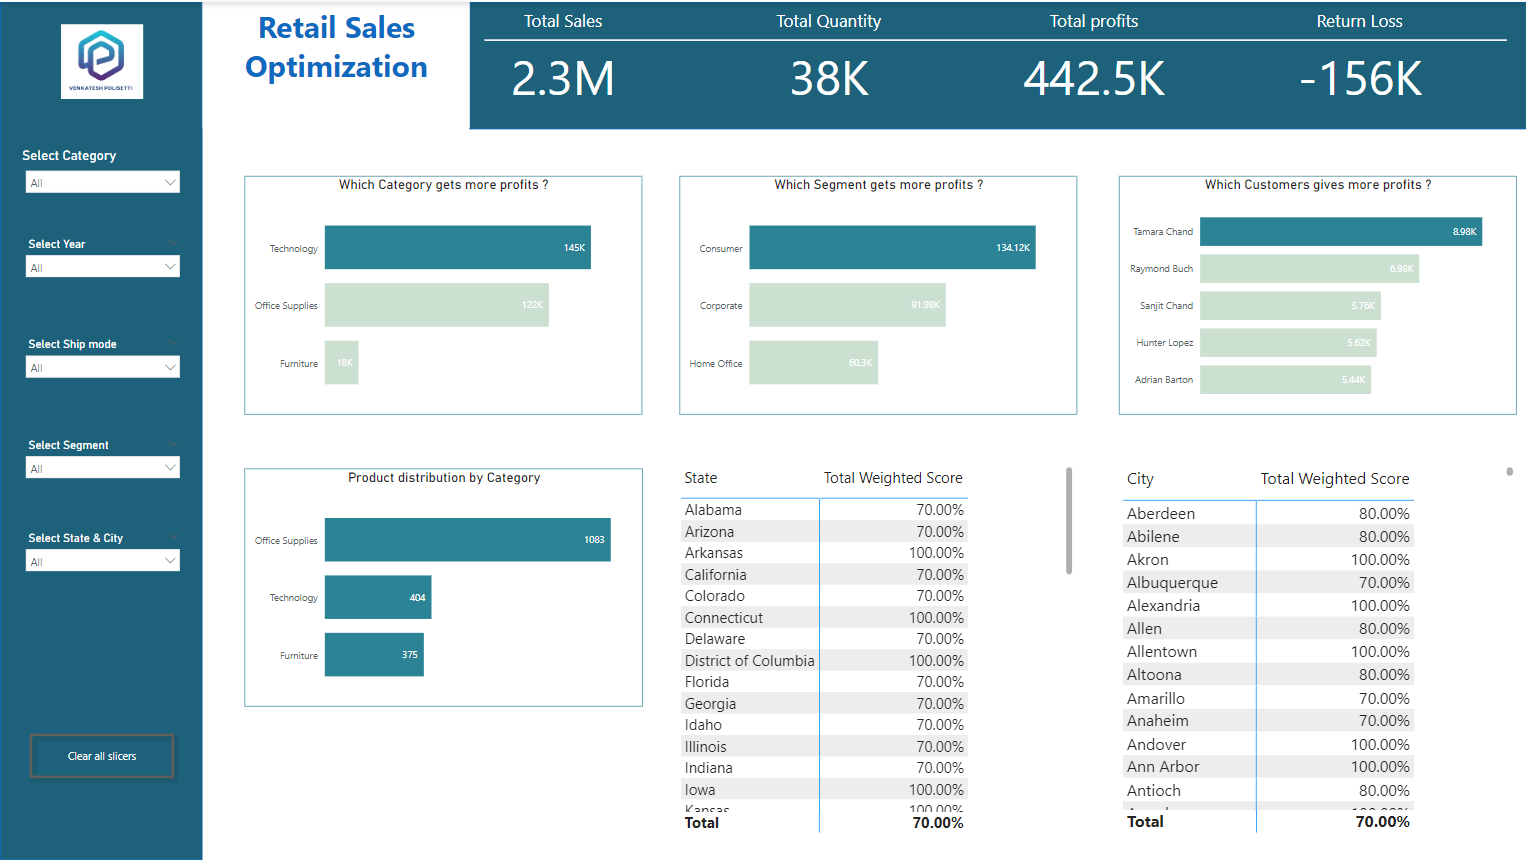

The page's visual inventory and layout, read from the dashboard file:
{"tool":"powerbi","page":{"name":"Efficiency and Profitability","canvas":[1920,1080],"ordinal":1},"visuals":[{"type":"shape","box":[0,0,254.4,1078.9],"z":0},{"type":"shape","box":[590.4,0,1331.2,159.9],"z":1000},{"type":"card","title":"Total Sales ","fields":{"Values":["Dax measures.Total sales"]},"box":[608.7,6.8,197.6,136.3],"z":2000},{"type":"card","title":"Total Quantity","fields":{"Values":["Dax measures.Total quantity"]},"box":[942.6,6.8,197.6,136.3],"z":3000},{"type":"card","title":"Total profits ","fields":{"Values":["Dax measures.Total Profit"]},"box":[1276.5,6.8,197.6,136.3],"z":4000},{"type":"card","title":"Return Loss","fields":{"Values":["Dax measures.Total Loss"]},"box":[1610.4,6.8,197.6,136.3],"z":5000},{"type":"shape","box":[608.7,38.6,1285.6,20.4],"z":6000},{"type":"barChart","title":"Which  Category gets more profits ?","fields":{"Y":["Fact_Orders.Profit"],"Category":["Dim_Products.Category"]},"box":[308.1,218.7,500,300],"z":13000},{"type":"textbox","box":[254.4,0,336.2,159],"z":15000},{"type":"slicer","title":"Select Category","fields":{"Values":["Dim_Products.Category"]},"box":[21.9,183.6,213.5,69.8],"z":16000},{"type":"slicer","fields":{"Values":["Calendar Table.Year","Calendar Table.Month Name"]},"box":[22.7,290.2,213.5,77.2],"z":17000},{"type":"slicer","fields":{"Values":["Ship Mode Sort.Ship mode"]},"box":[22.7,416.8,213.5,77.2],"z":18000},{"type":"slicer","fields":{"Values":["dim_customers.Segment"]},"box":[22.7,543.4,213.5,68.1],"z":19000},{"type":"slicer","fields":{"Values":["Dim_Locations.State","Dim_Locations.City"]},"box":[21.9,660.4,213.5,75.8],"z":20000},{"type":"image","box":[65.9,22.7,124.9,104.5],"z":22000},{"type":"actionButton","box":[27.9,911.8,199.5,73.8],"z":24000},{"type":"barChart","title":"Which  Segment gets more profits ?","fields":{"Y":["Fact_Orders.Profit"],"Category":["dim_customers.Segment"]},"box":[853.8,218.7,500,300],"z":24005},{"type":"barChart","title":"Which  Customers  gives more profits ?","fields":{"Y":["Fact_Orders.Profit"],"Category":["dim_customers.Customer Name"]},"box":[1406.5,218.7,500,300],"z":24006},{"type":"barChart","title":"Product distribution  by Category","fields":{"Category":["Dim_Products.Category"],"Y":["Dax measures.Total Products"]},"box":[307.3,586.6,500.8,299.3],"z":24007},{"type":"pivotTable","fields":{"Rows":["Dim_Locations.State"],"Values":["Dax measures.Total Weighted Score"]},"box":[851.4,578.6,503.3,470.4],"z":24008},{"type":"pivotTable","fields":{"Rows":["Dim_Locations.City"],"Values":["Dax measures.Total Weighted Score"]},"box":[1406.5,578.6,501,470.4],"z":24009}]}

Visuals, with their boxes in screenshot pixels (x1, y1, x2, y2), scaled from the page's 1920x1080 canvas onto the 1526x860 screenshot:
shape: rect(0, 0, 202, 859)
shape: rect(469, 0, 1525, 127)
"Total Sales " card: rect(484, 5, 641, 114)
"Total Quantity" card: rect(749, 5, 906, 114)
"Total profits " card: rect(1015, 5, 1172, 114)
"Return Loss" card: rect(1280, 5, 1437, 114)
shape: rect(484, 31, 1506, 47)
"Which  Category gets more profits ?" barChart: rect(245, 174, 642, 413)
textbox: rect(202, 0, 469, 127)
"Select Category" slicer: rect(17, 146, 187, 202)
slicer - Calendar Table.Year x Calendar Table.Month Name: rect(18, 231, 188, 293)
slicer - Ship Mode Sort.Ship mode: rect(18, 332, 188, 393)
slicer - dim_customers.Segment: rect(18, 433, 188, 487)
slicer - Dim_Locations.State x Dim_Locations.City: rect(17, 526, 187, 586)
image: rect(52, 18, 152, 101)
actionButton: rect(22, 726, 181, 785)
"Which  Segment gets more profits ?" barChart: rect(679, 174, 1076, 413)
"Which  Customers  gives more profits ?" barChart: rect(1118, 174, 1515, 413)
"Product distribution  by Category" barChart: rect(244, 467, 642, 705)
pivotTable - Dim_Locations.State x Dax measures.Total Weighted Score: rect(677, 461, 1077, 835)
pivotTable - Dim_Locations.City x Dax measures.Total Weighted Score: rect(1118, 461, 1516, 835)
